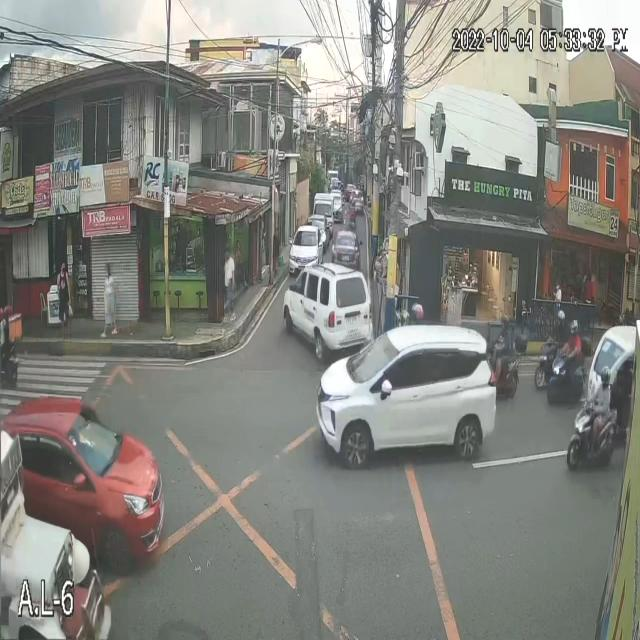Full-Faced: (566, 318, 580, 340), (599, 366, 611, 389), (411, 304, 426, 322), (395, 307, 409, 326), (557, 308, 567, 327), (500, 314, 511, 329)
